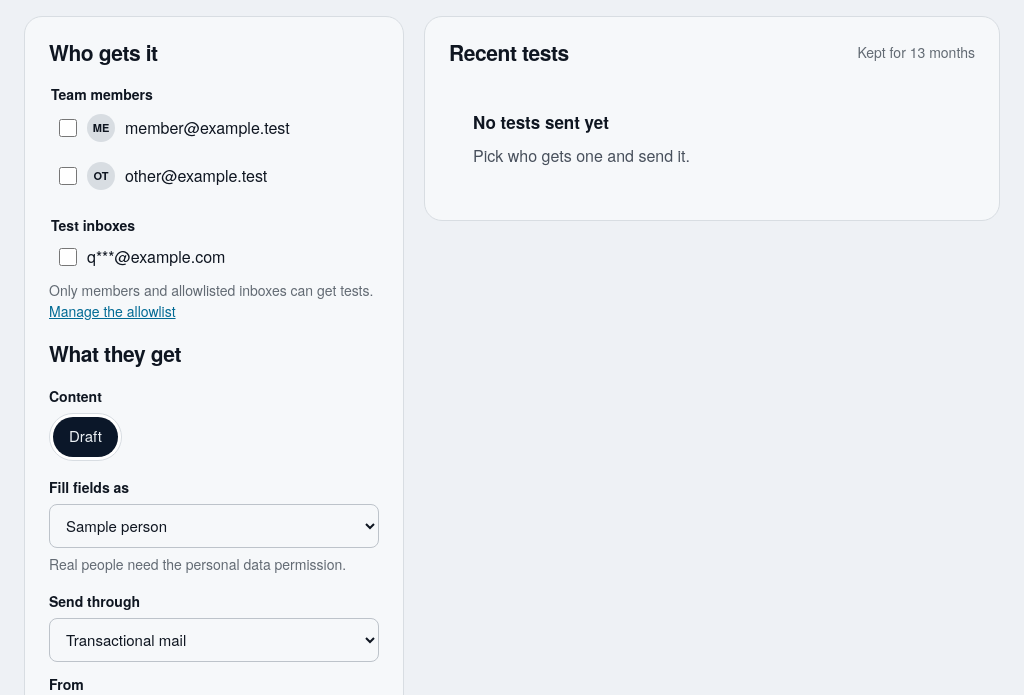
it: the Send a test page › goes on after a refused recipient and shows why
This screenshot has width=1024, height=695.
Select "Transactional mail" in the dropdown labelled "Send through": (214, 640) [49, 618, 379, 662]
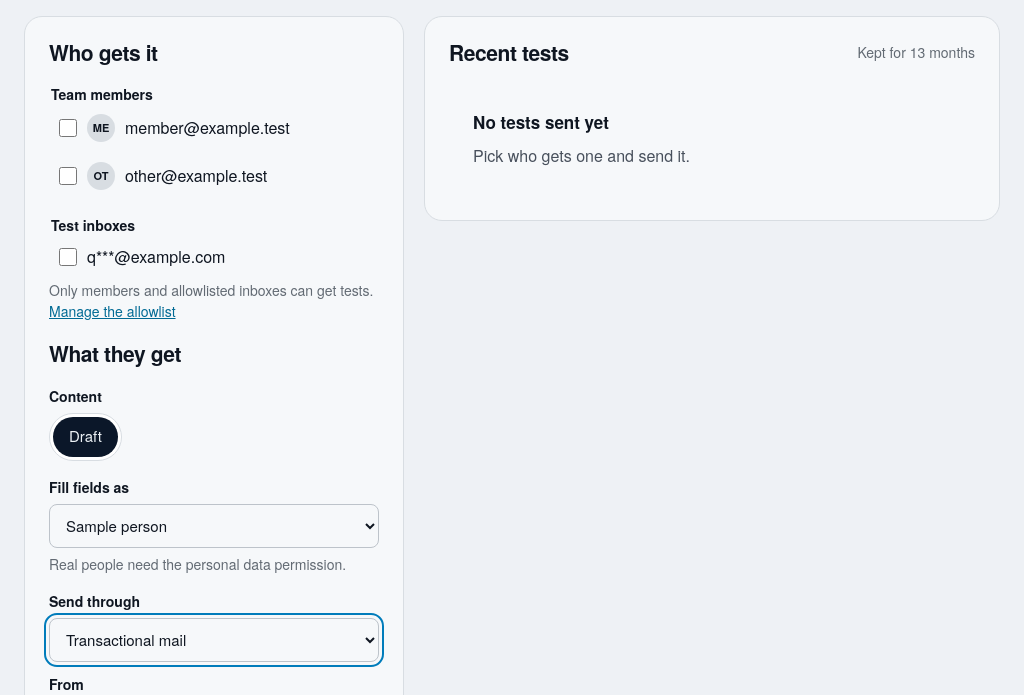
Click the checkbox labelled "member@example.test": (68, 128) [59, 119, 77, 137]
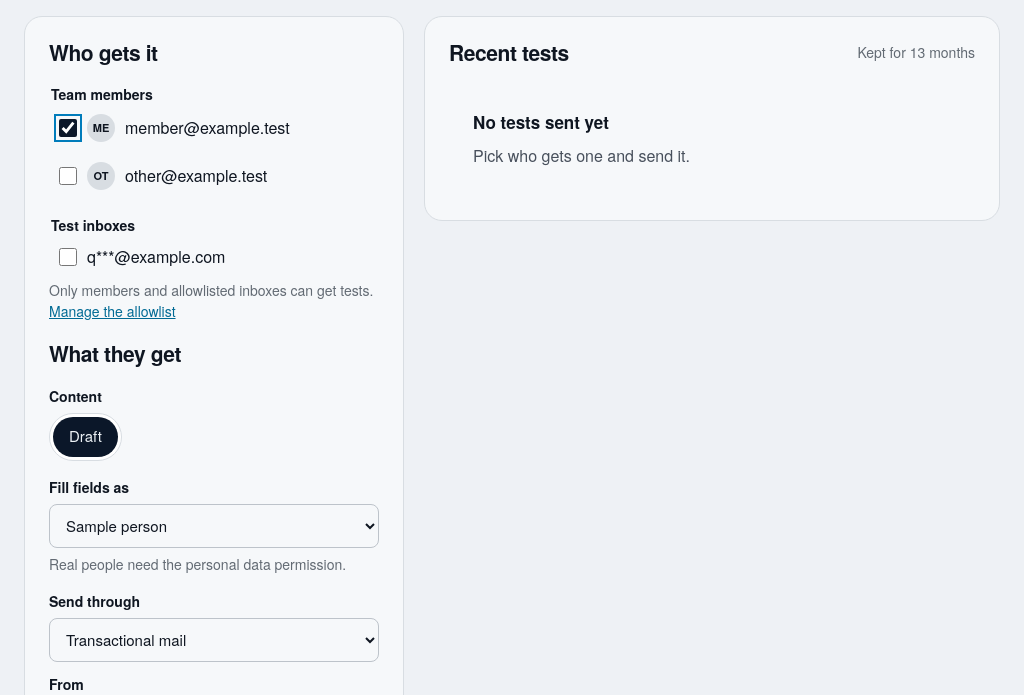
Click the checkbox labelled "other@example.test": (68, 176) [59, 167, 77, 185]
(page scrolled)
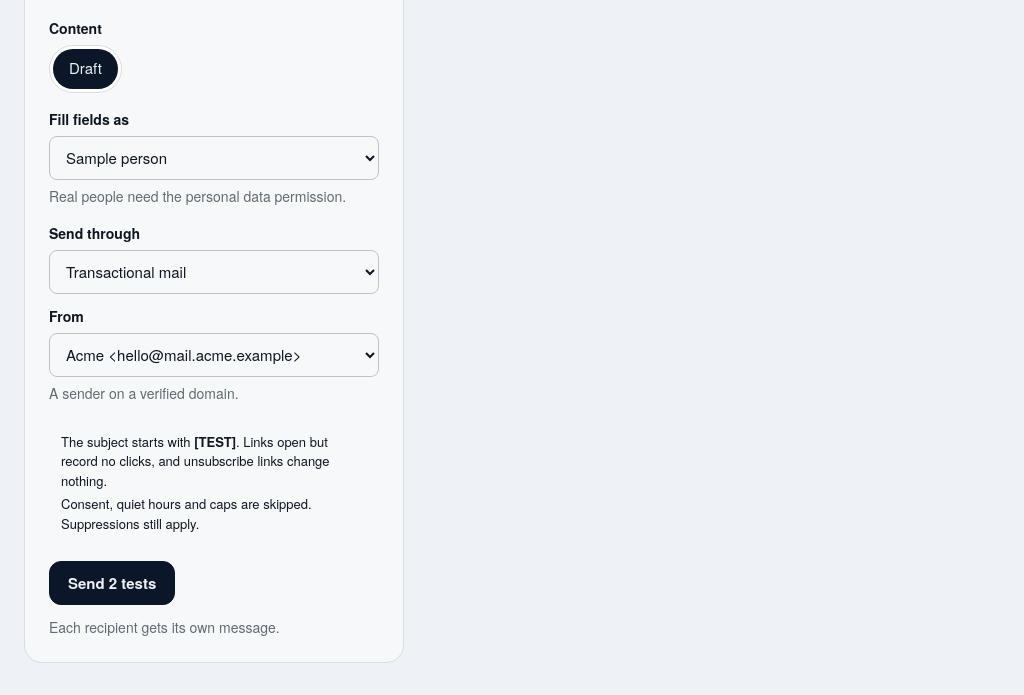
Click the button "Send 2 tests": (112, 583) [49, 561, 175, 605]
(page scrolled)
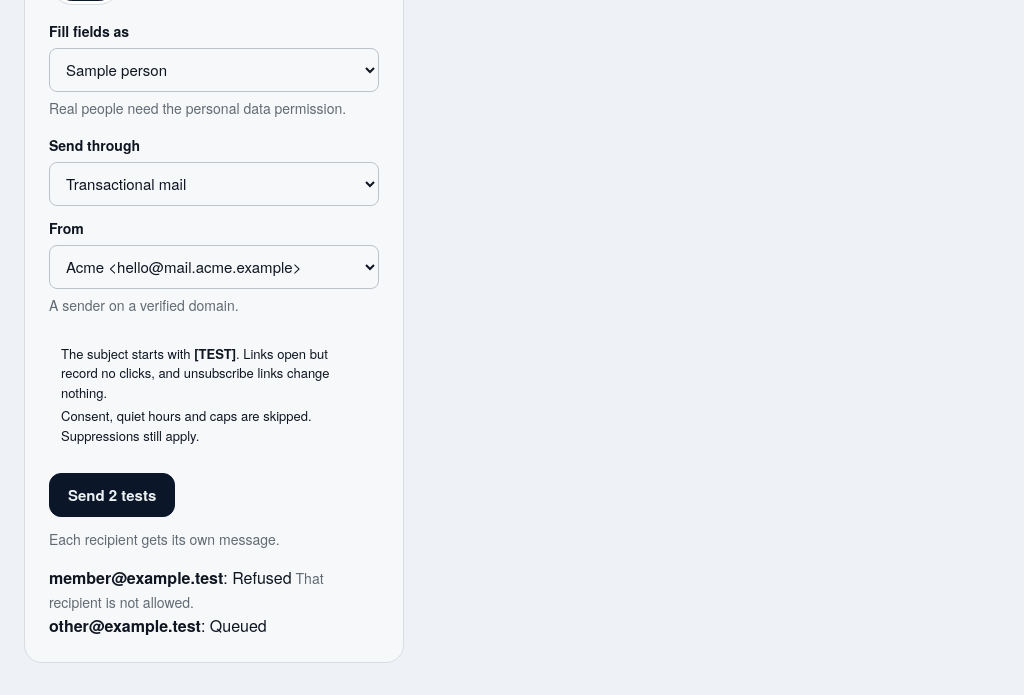
Now the list item "other@example.test: Queued" is shown, box [49, 614, 267, 637]
Now the list item "member@example.test: Refused That recipient is not allowed." is shown, box [49, 566, 324, 612]
